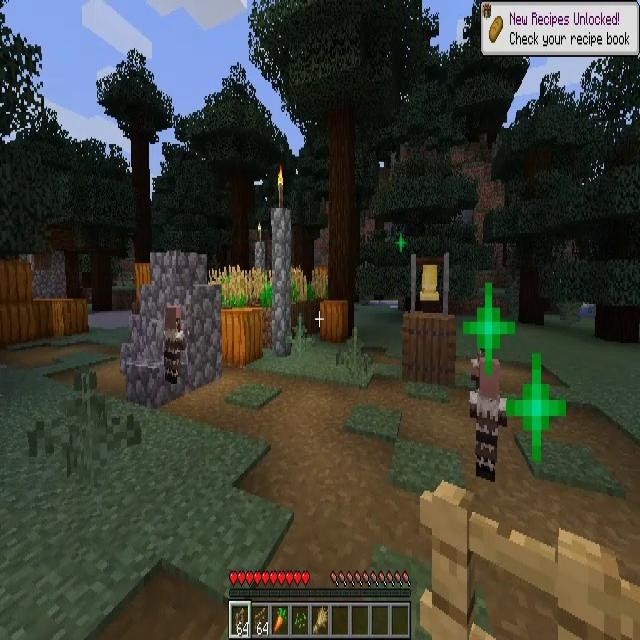people: (469, 362, 507, 482), (164, 306, 188, 384)
